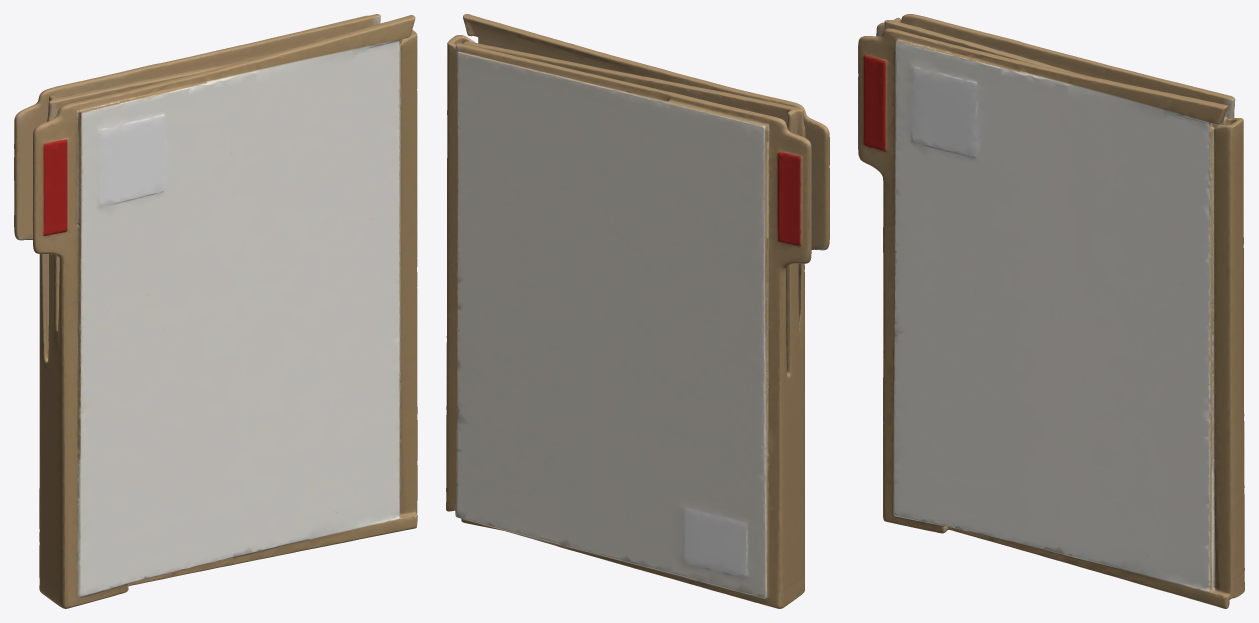
The model's file is OpenCaseFolder.fbx.
3 renders of one model, left to right at view 1: azimuth 30°, elevation 25°; view 2: azimuth 150°, elevation 25°; view 3: azimuth 330°, elevation 25°, orthographic. The views are drawn at different scales.
Parts seen in each view (by area): view 1: Mesh_0.002; view 2: Mesh_0.002; view 3: Mesh_0.002.
Part boxes in pixels (x1=…): Mesh_0.002: x1=14, y1=14, x2=417, y2=608; Mesh_0.002: x1=446, y1=14, x2=829, y2=608; Mesh_0.002: x1=858, y1=14, x2=1244, y2=608.
Size of the model in its own units: 110 by 15.09 by 139.
1 material, 1 textured.
